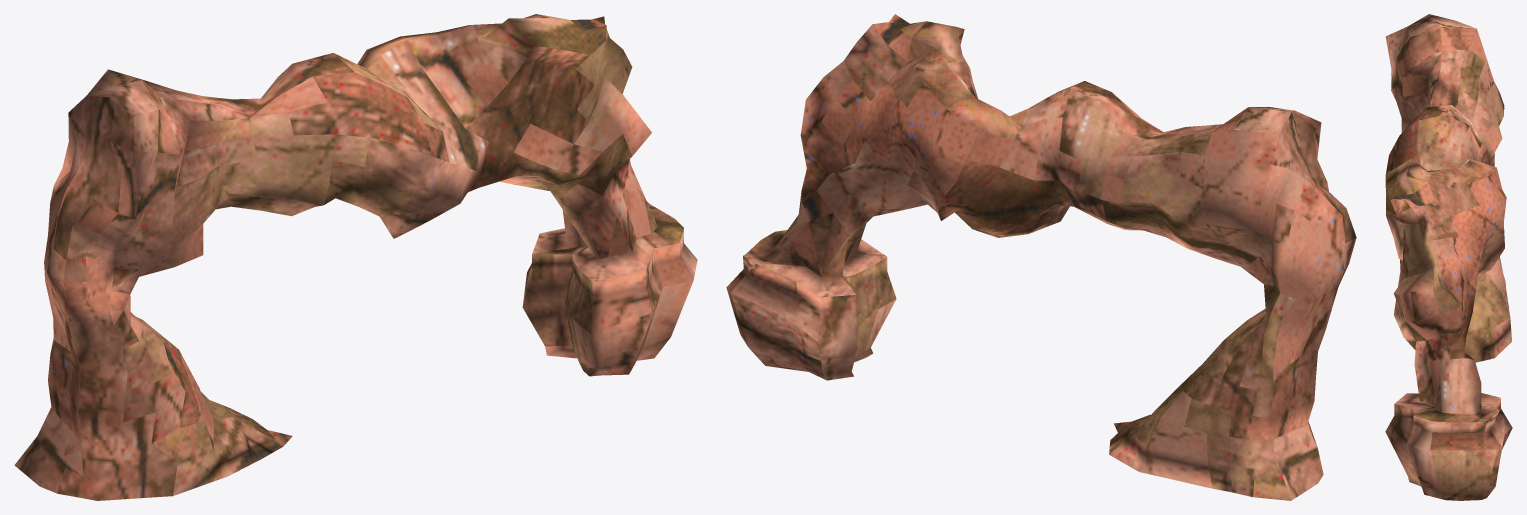
The model's file is piedra 1.fbx.
3 renders of one model, left to right at view 1: azimuth 30°, elevation 25°; view 2: azimuth 150°, elevation 25°; view 3: azimuth 270°, elevation 25°, orthographic. The views are drawn at different scales.
Visible parts, largest first — view 1: Cliff_Large_Standard; view 2: Cliff_Large_Standard; view 3: Cliff_Large_Standard.
Part boxes in pixels (x1,y1,x2,y2): Cliff_Large_Standard: (14,14,697,500); Cliff_Large_Standard: (726,14,1356,500); Cliff_Large_Standard: (1385,14,1512,500).
Bounding box in the file's own units: 3359 × 1935 × 776.
